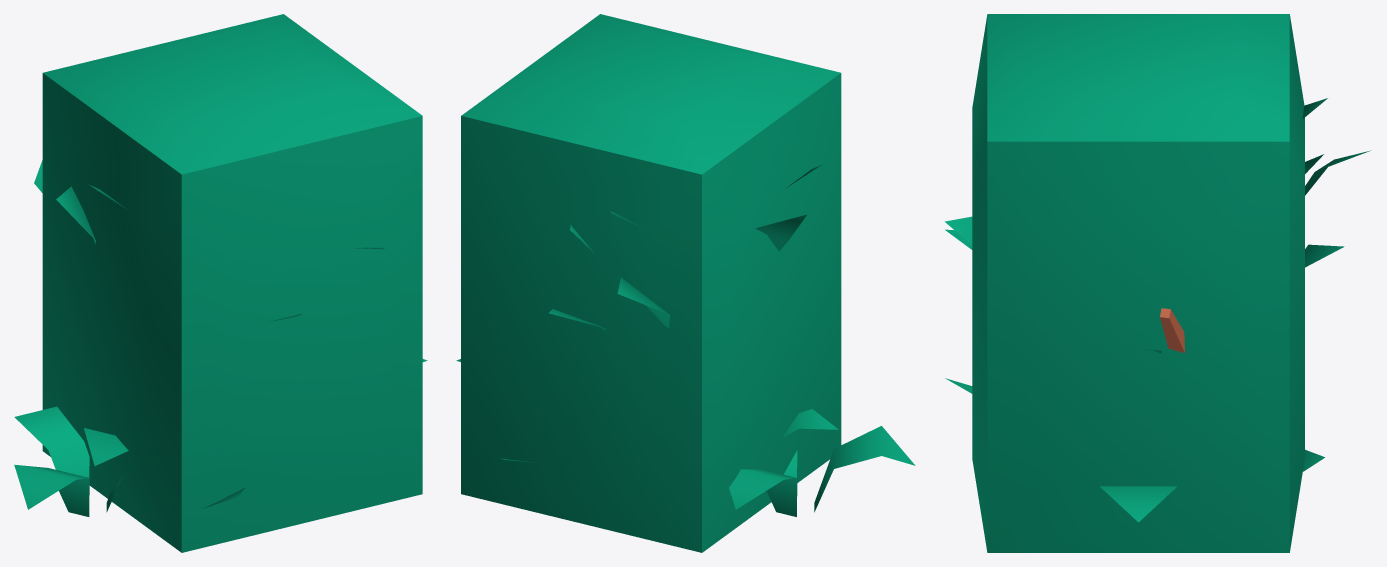
File: bushybush.fbx
The picture shows the model from 3 angles, left to right: view 1: azimuth 30°, elevation 25°; view 2: azimuth 150°, elevation 25°; view 3: azimuth 270°, elevation 25°; orthographic projection. The views are drawn at different scales.
Parts seen in each view (by area): view 1: leafs_square, plant_large, plant_largeLeaf, plant_smallLeaf; view 2: leafs_square, plant_large, plant_smallLeaf (×2), plant_largeLeaf; view 3: leafs_square, plant_largeLeaf, tree_branchLongBend.
Boxes of the visible parts, x1,y1,x2,y2 form: leafs_square: (42, 14, 422, 552); plant_large: (14, 406, 122, 516); plant_largeLeaf: (84, 428, 128, 465); plant_smallLeaf: (56, 186, 95, 244); leafs_square: (461, 14, 841, 552); plant_large: (729, 426, 915, 516); plant_smallLeaf (×2): (617, 214, 806, 328); plant_largeLeaf: (781, 409, 838, 438); leafs_square: (972, 14, 1304, 552); plant_largeLeaf: (1100, 486, 1177, 522); tree_branchLongBend: (1160, 308, 1184, 353).
Bounding box in the file's own units: 17.83 × 16.5 × 14.16.
